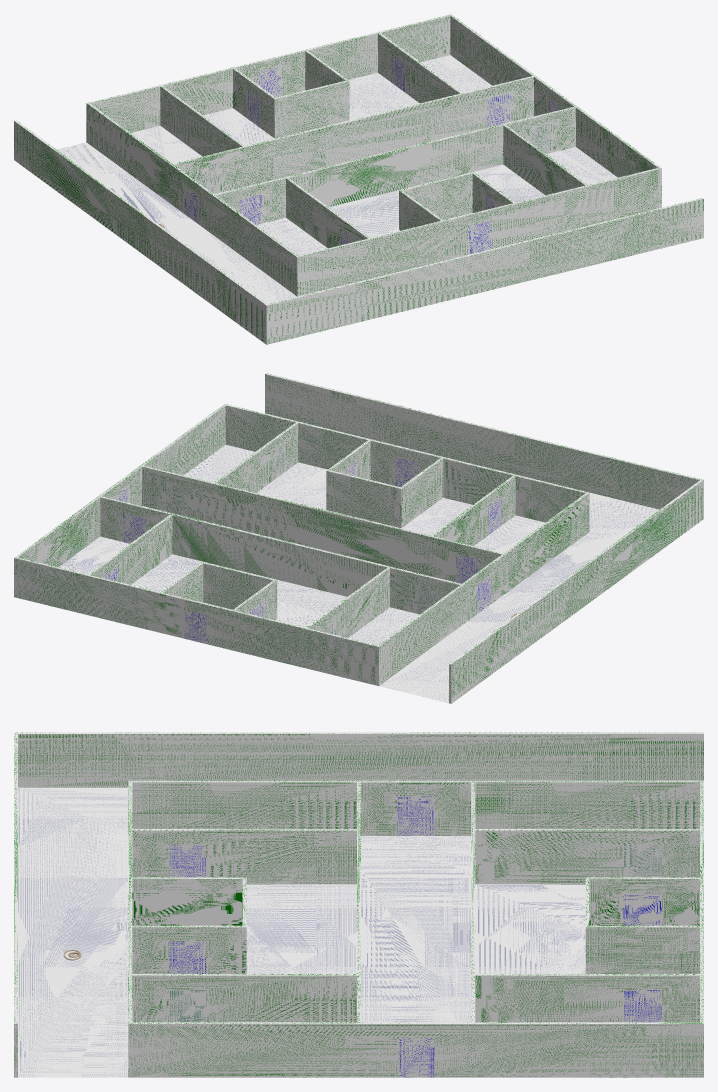
The picture shows the model from 3 angles, top to bottom: view 1: azimuth 30°, elevation 25°; view 2: azimuth 150°, elevation 25°; view 3: azimuth 270°, elevation 25°; orthographic projection. The views are drawn at different scales.
Visible parts, largest first — view 1: SketchUp (×24); view 2: SketchUp (×24); view 3: SketchUp (×23).
Part boxes in pixels (box(x1,y1,x2,y2)): SketchUp (×24): box(14, 14, 703, 344); SketchUp (×24): box(14, 373, 703, 703); SketchUp (×23): box(14, 732, 703, 1077).
Size of the model in its own units: 1050 by 1050 by 90.
